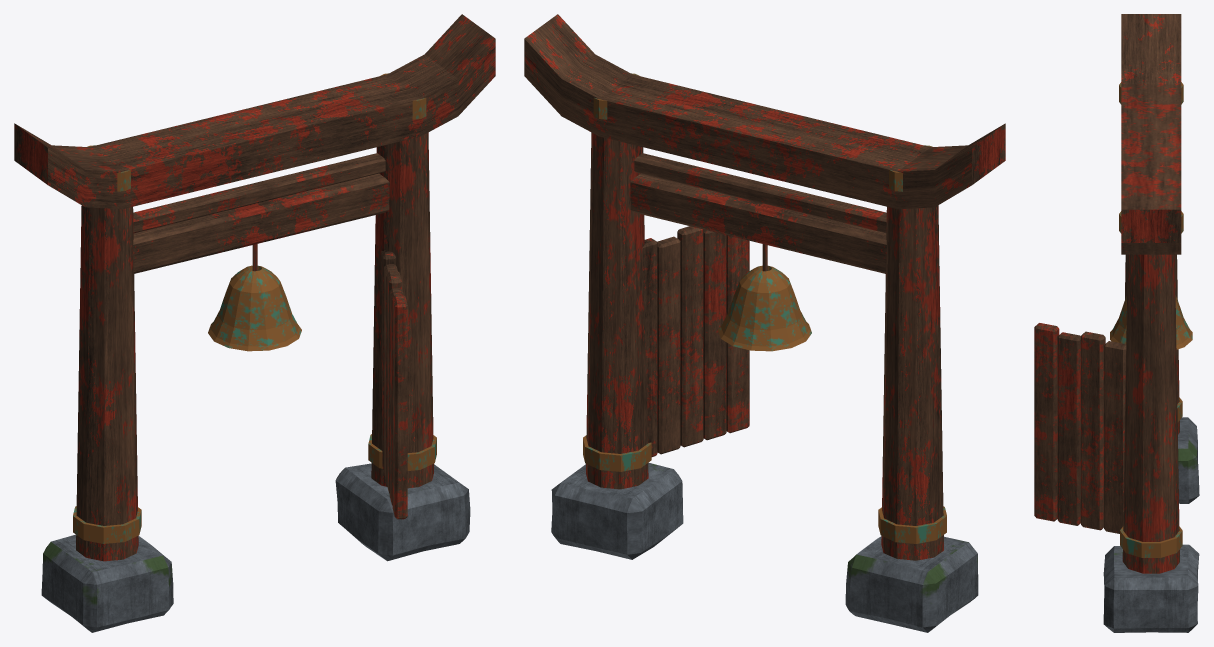
The model's file is Bell_Timber_Gate_Side.glb.
3 views of the same model, side by side, from view 1: azimuth 30°, elevation 25°; view 2: azimuth 150°, elevation 25°; view 3: azimuth 270°, elevation 25° (orthographic). The views are drawn at different scales.
Parts seen in each view (by area): view 1: Bell_Timber_Gate_Side__Timber, Bell_Timber_Gate_Side__Stone, Bell_Timber_Gate_Side__Bronze; view 2: Bell_Timber_Gate_Side__Timber, Bell_Timber_Gate_Side__Stone, Bell_Timber_Gate_Side__Bronze; view 3: Bell_Timber_Gate_Side__Timber, Bell_Timber_Gate_Side__Stone, Bell_Timber_Gate_Side__Bronze.
Part boxes in pixels (x1,y1,x2,y2): Bell_Timber_Gate_Side__Timber: (14, 14, 495, 561); Bell_Timber_Gate_Side__Stone: (41, 463, 470, 632); Bell_Timber_Gate_Side__Bronze: (73, 73, 436, 543); Bell_Timber_Gate_Side__Timber: (524, 14, 1005, 560); Bell_Timber_Gate_Side__Stone: (551, 462, 978, 632); Bell_Timber_Gate_Side__Bronze: (583, 73, 946, 543); Bell_Timber_Gate_Side__Timber: (1034, 14, 1181, 573); Bell_Timber_Gate_Side__Stone: (1103, 417, 1199, 632); Bell_Timber_Gate_Side__Bronze: (1110, 82, 1192, 557).
Size of the model in its own units: 10 by 10.53 by 3.57.
3 materials, 3 textured.
